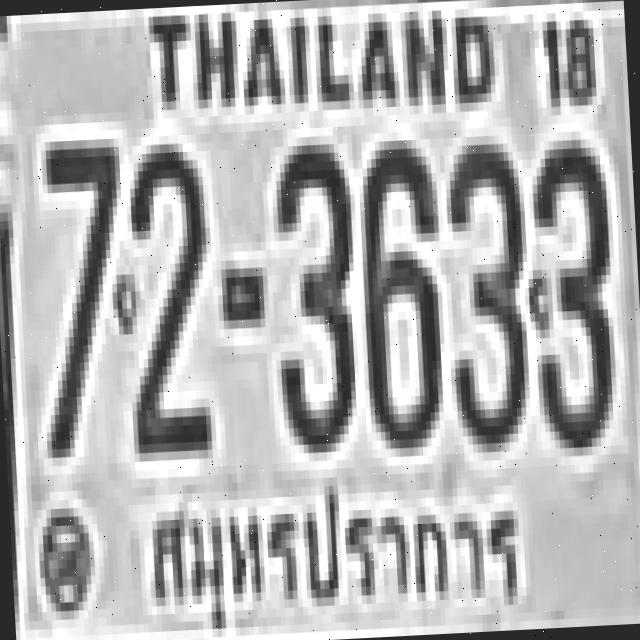2: (119, 134, 212, 453)
3: (439, 134, 532, 446), (265, 135, 358, 446), (521, 130, 614, 441)
6: (352, 135, 445, 446)
7: (31, 130, 130, 450)
SamutPrakan: (143, 466, 538, 640)
